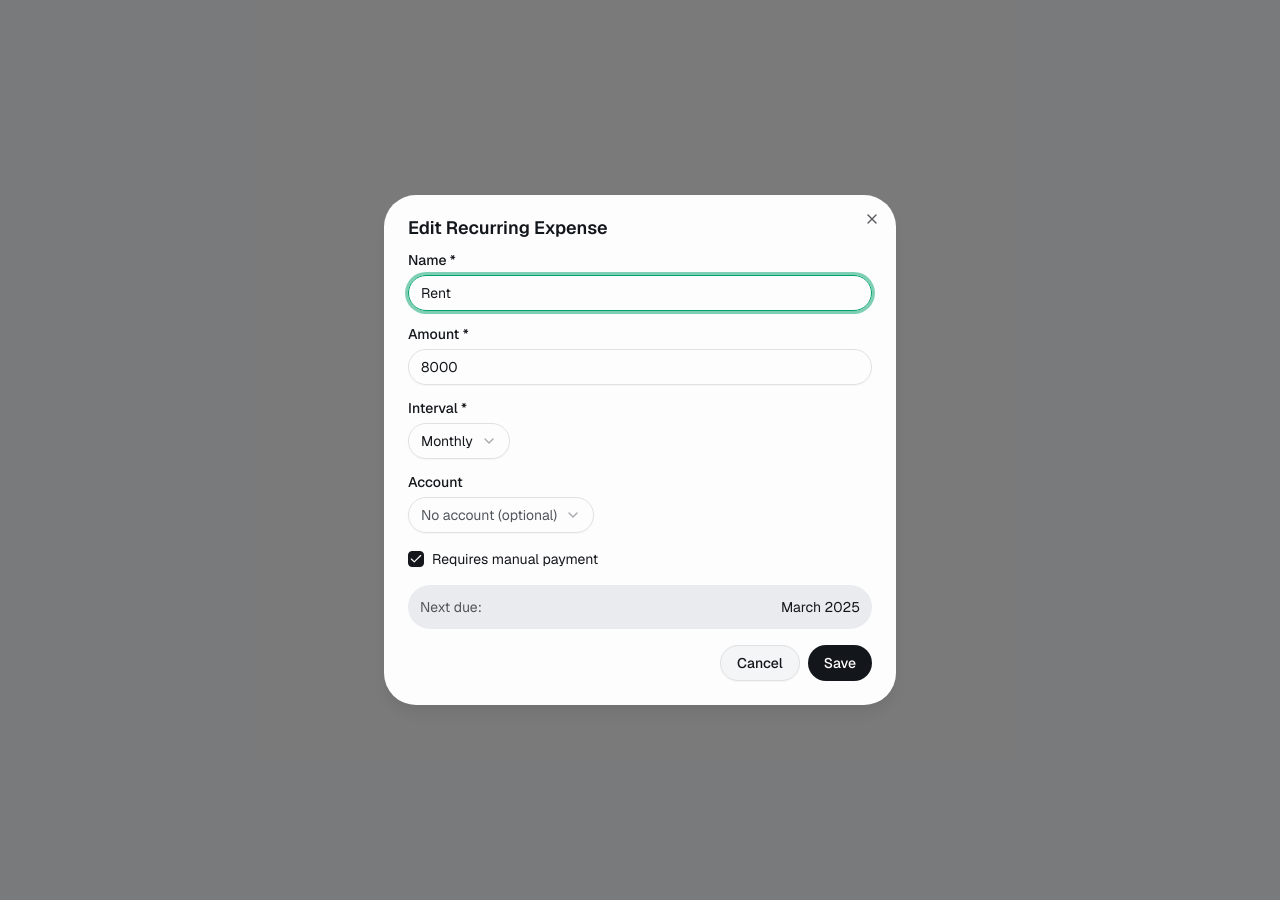
it: EditRecurringExpenseModal › shows error message on API failure
Replace the text in the field labelled "Name *" with "Updated" at (640, 293), box top-left (408, 275), bottom-right (872, 311)
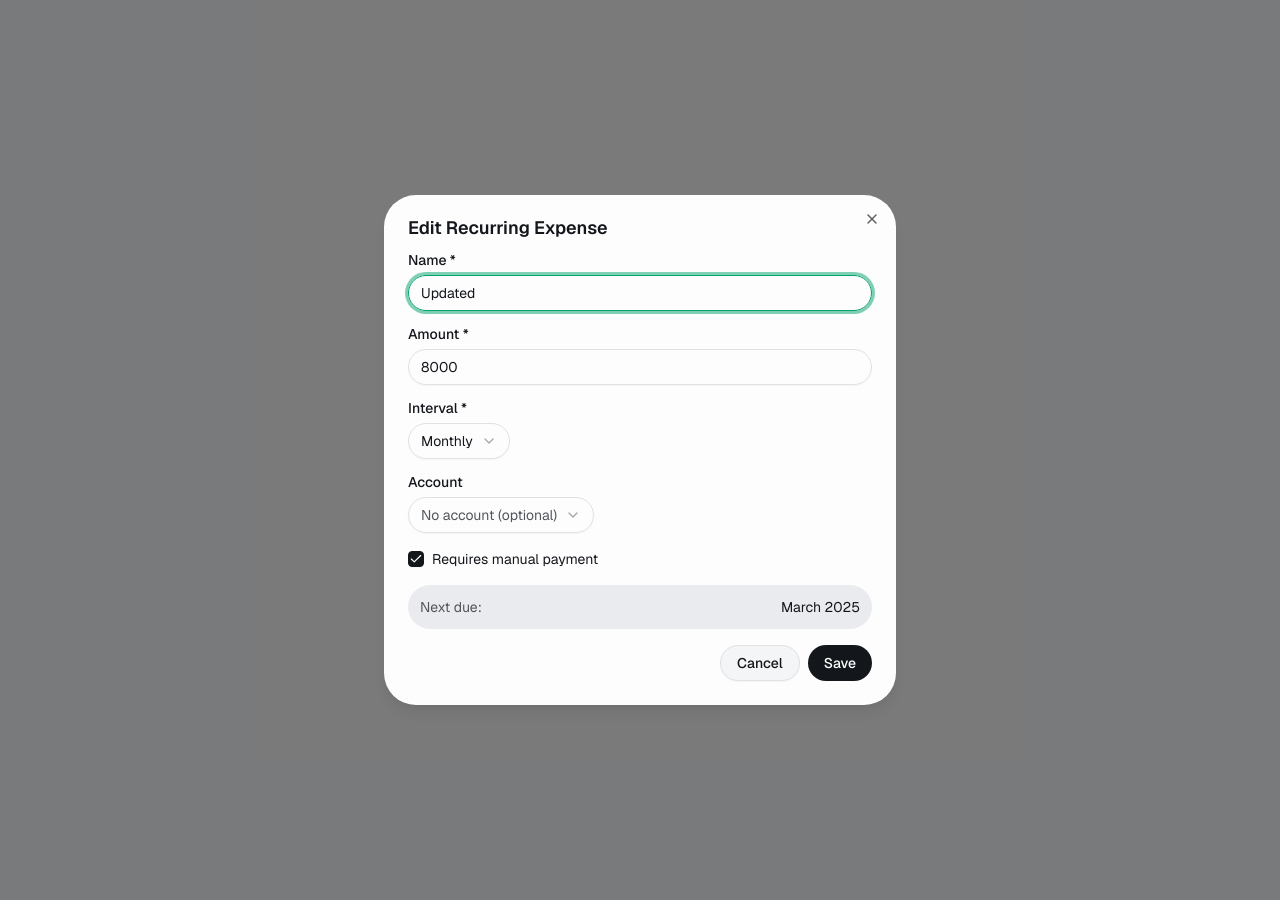
Click the button "Save" at (840, 663), box top-left (808, 645), bottom-right (872, 681)
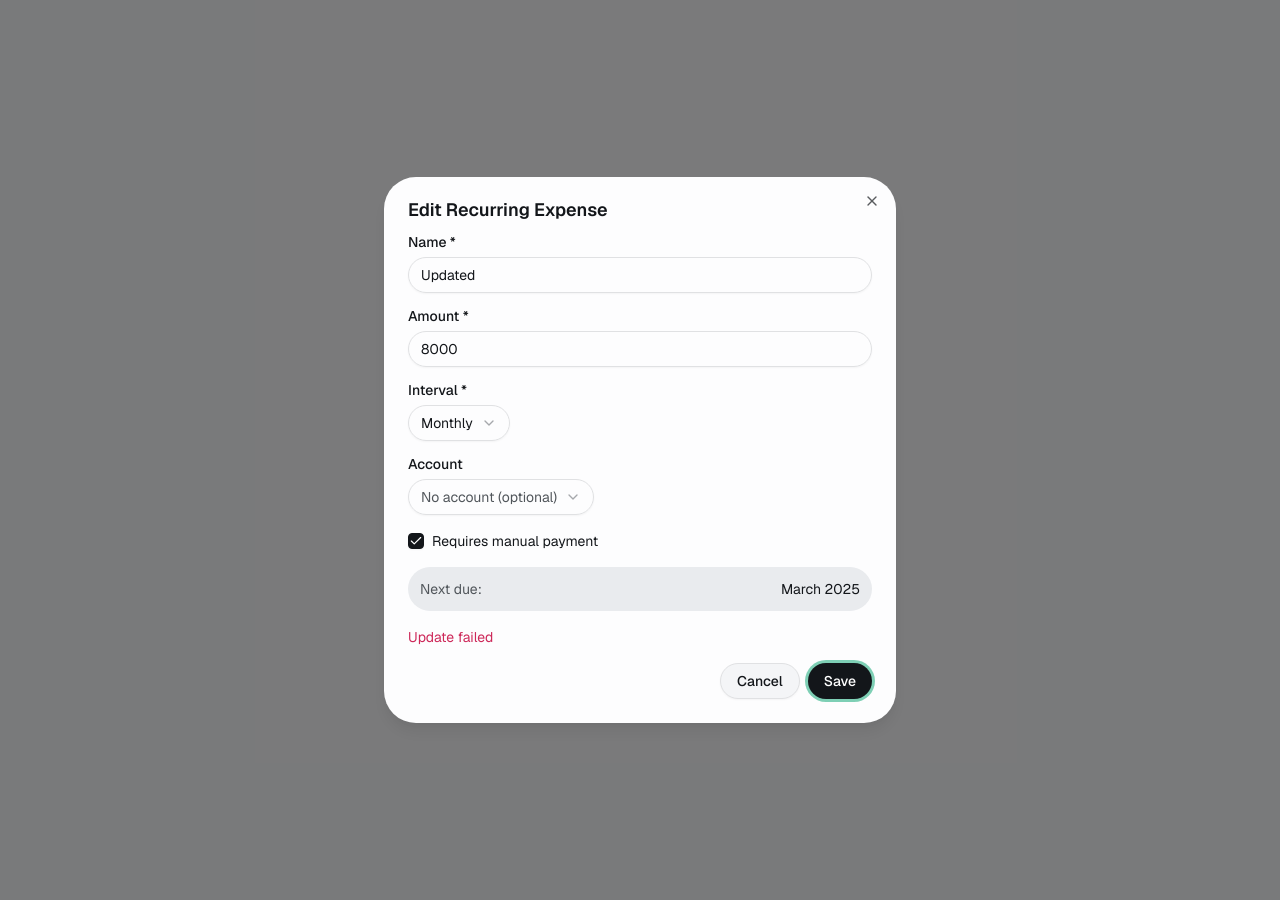
expect the text "Update failed" is shown: met, box top-left (408, 628), bottom-right (493, 646)
